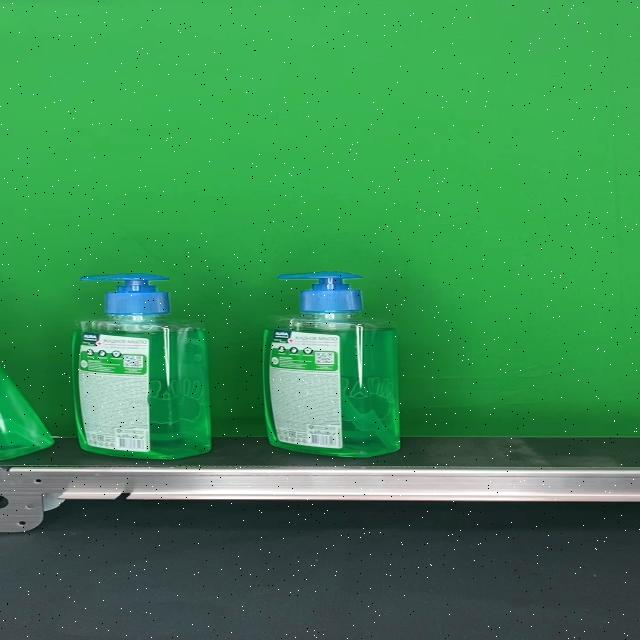Bottle: (72, 273, 212, 459), (262, 272, 400, 458)
Cap: (77, 274, 169, 316), (276, 272, 364, 313)
